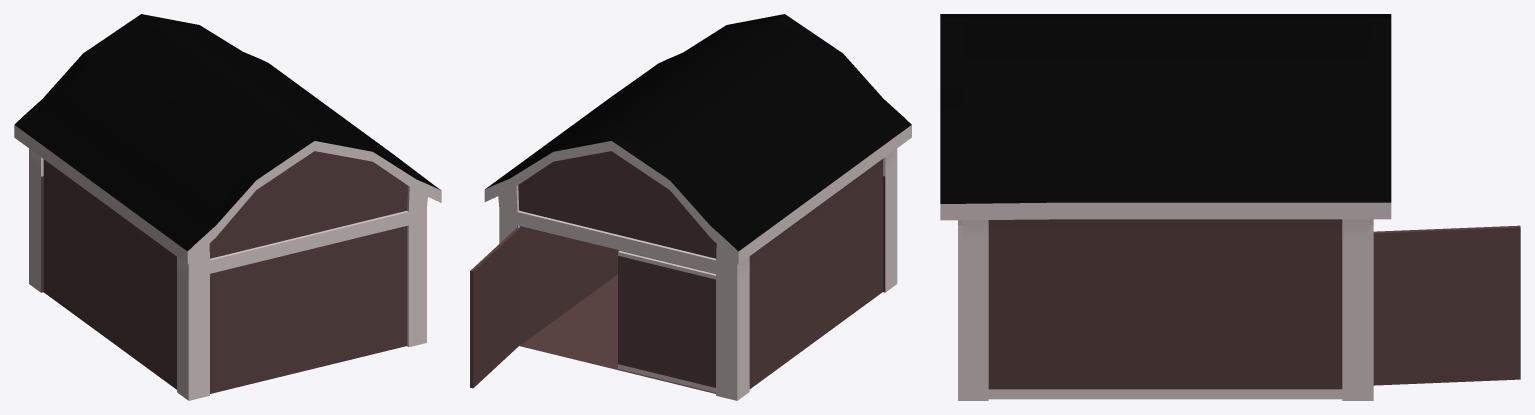
File: Barn.fbx
3 renders of one model, left to right at view 1: azimuth 30°, elevation 25°; view 2: azimuth 150°, elevation 25°; view 3: azimuth 270°, elevation 25°, orthographic. The views are drawn at different scales.
Parts seen in each view (by area): view 1: polySurface12, polySurface1; view 2: polySurface1, polySurface12, polySurface8, polySurface6, polySurface9, polySurface4; view 3: polySurface1, polySurface12, polySurface9.
Boxes of the visible parts, x1,y1,x2,y2 form: polySurface12: (14,125,441,400); polySurface1: (14,14,440,251); polySurface1: (485,14,911,251); polySurface12: (484,125,911,400); polySurface8: (618,250,734,400); polySurface6: (519,226,642,345); polySurface9: (470,221,520,388); polySurface4: (520,256,715,393); polySurface1: (940,14,1391,203); polySurface12: (940,202,1391,400); polySurface9: (1373,225,1520,385).
Bounding box in the file's own units: 21.67 × 19.24 × 32.96.
